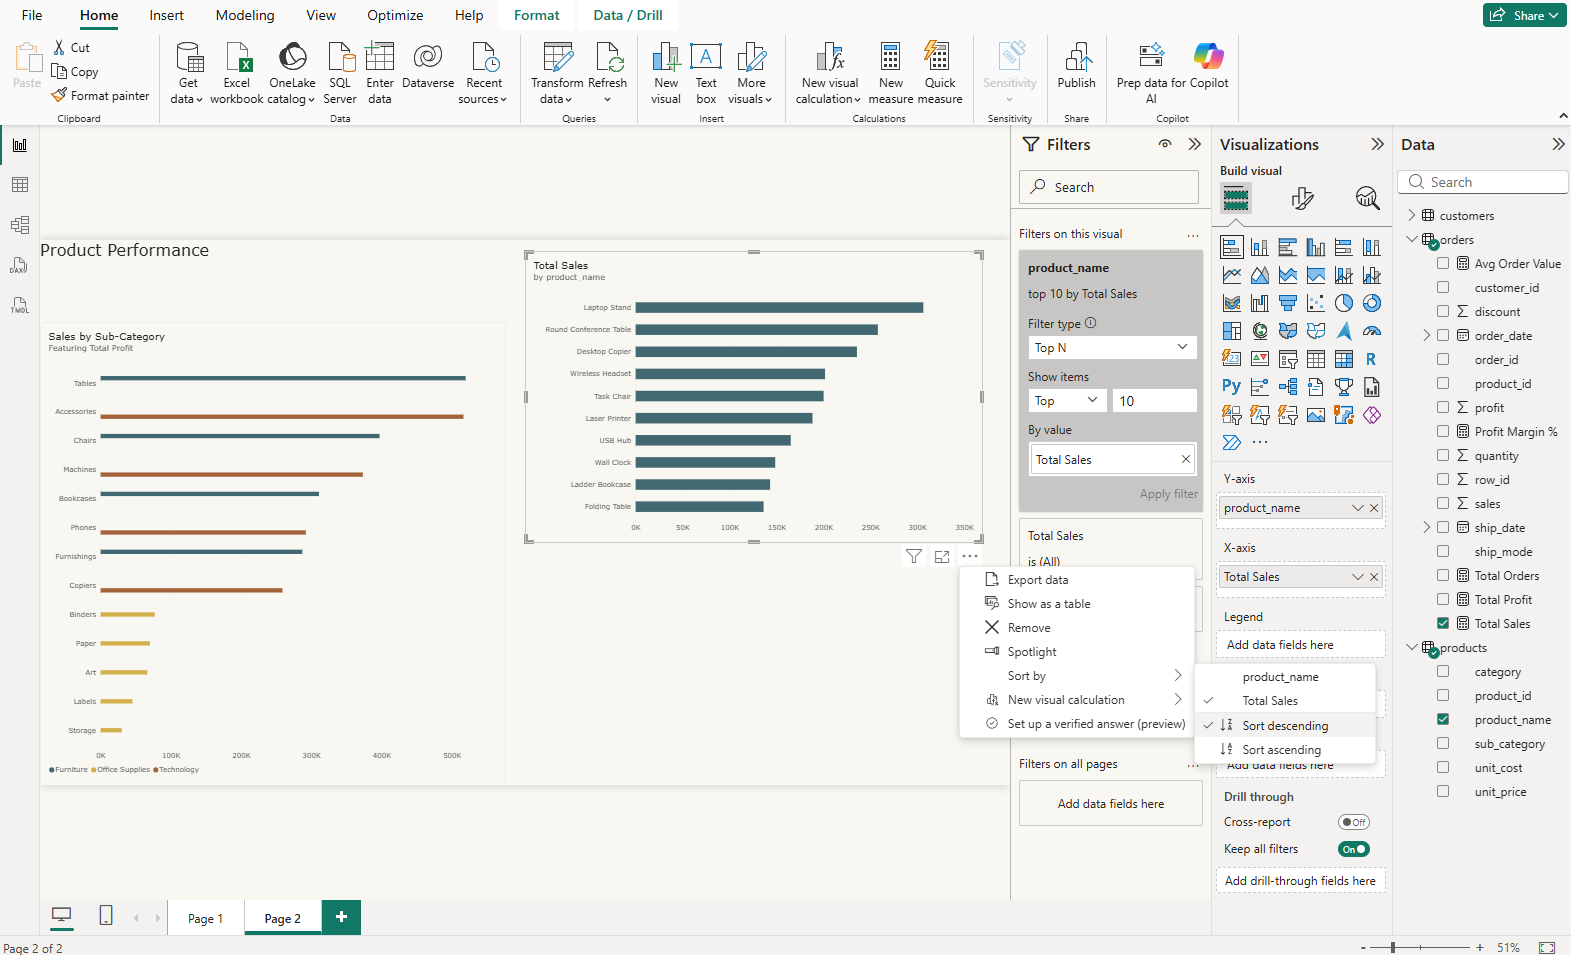

This screenshot's page, from the dashboard's own definition file:
{"tool":"powerbi","page":{"name":"Page 2","canvas":[1920,1080],"ordinal":1},"visuals":[{"type":"textbox","box":[20.2,0,374.2,42.9],"z":0},{"type":"barChart","title":"Sales by Sub-Category","fields":{"Category":["products.sub_category"],"Y":["orders.Total Sales"],"Series":["products.category"]},"box":[20.2,401.5,895.9,651.2],"z":1000},{"type":"barChart","title":"Top 10 Products","fields":{"Category":["products.product_name"],"Y":["orders.Total Sales"],"Series":["products.category"]},"box":[946.5,43.9,958.3,497.7],"z":2000},{"type":"barChart","title":"Bottom 10 Products","fields":{"Category":["products.product_name"],"Y":["orders.Profit Margin %"],"Series":["products.category"]},"box":[946.5,555.1,958.3,497.7],"z":3000},{"type":"slicer","fields":{"Values":["orders.order_date"]},"box":[20.2,43.9,895.9,150.2],"z":4000},{"type":"slicer","fields":{"Values":["products.category"]},"box":[20.2,216,895.9,167],"z":5000}]}

Visuals, with their boxes on the page's 1920x1080 design canvas (x1, y1, x2, y2). These are canvas units, not pixel positions in the 1571x955 screenshot, which may show the page scaled, cropped or inside an application window:
textbox: bbox=[20, 0, 394, 43]
"Sales by Sub-Category" barChart: bbox=[20, 402, 916, 1053]
"Top 10 Products" barChart: bbox=[946, 44, 1905, 542]
"Bottom 10 Products" barChart: bbox=[946, 555, 1905, 1053]
slicer - orders.order_date: bbox=[20, 44, 916, 194]
slicer - products.category: bbox=[20, 216, 916, 383]
